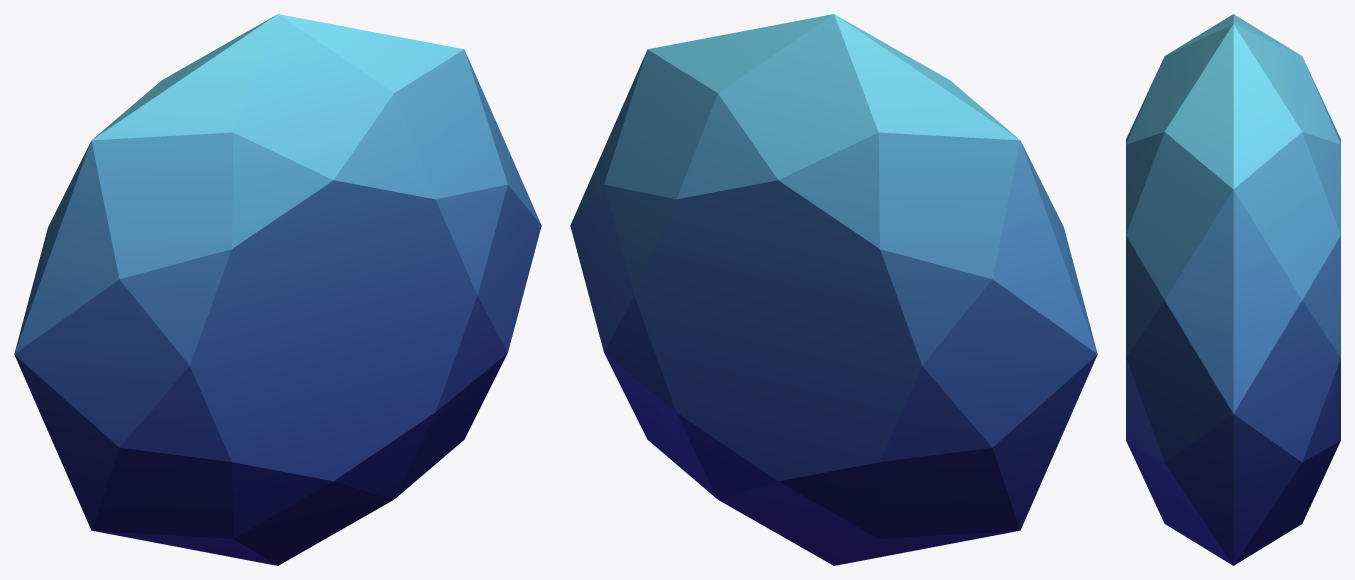
File: Sapphire_02.glb
The picture shows the model from 3 angles, left to right: view 1: azimuth 30°, elevation 25°; view 2: azimuth 150°, elevation 25°; view 3: azimuth 270°, elevation 25°; orthographic projection. The views are drawn at different scales.
Visible parts, largest first — view 1: Sapphire_02; view 2: Sapphire_02; view 3: Sapphire_02.
Boxes of the visible parts, left/top/right/bottom form: Sapphire_02: left=14, top=14, right=541, bottom=565; Sapphire_02: left=570, top=14, right=1097, bottom=565; Sapphire_02: left=1126, top=14, right=1340, bottom=565.
Bounding box in the file's own units: 0.3979 × 0.3979 × 0.1456.
1 material, 1 textured.
